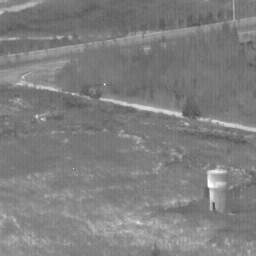aircraft: (104, 84, 106, 86)
